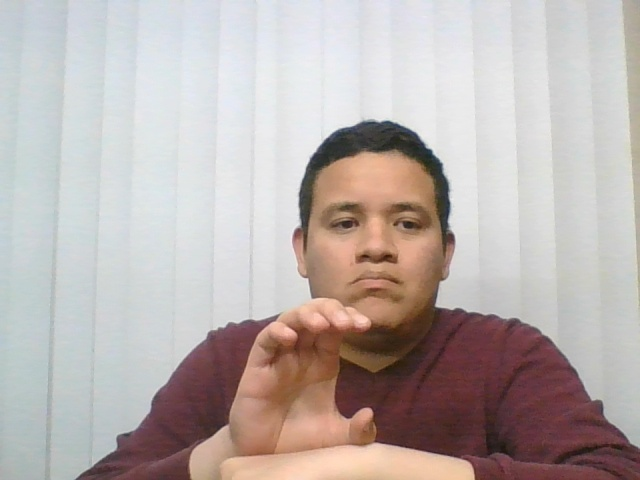Church: (183, 281, 384, 477)
